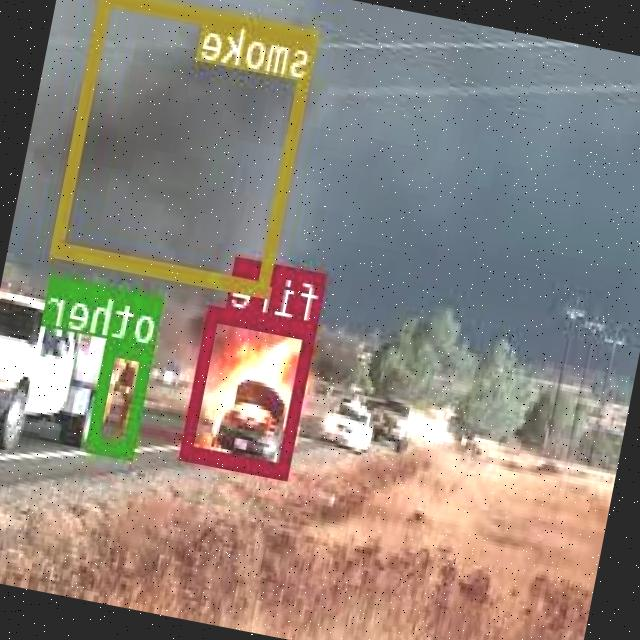fire: (182, 304, 318, 477)
smoke: (52, 0, 322, 295)
